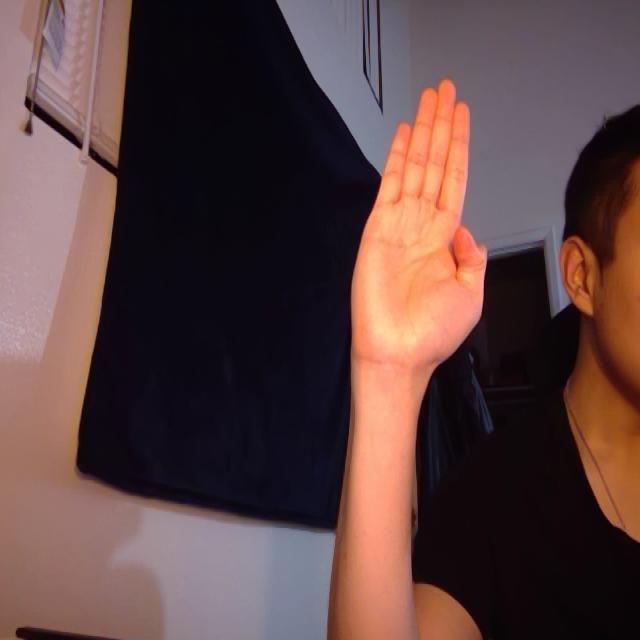B: (347, 35, 502, 424)
